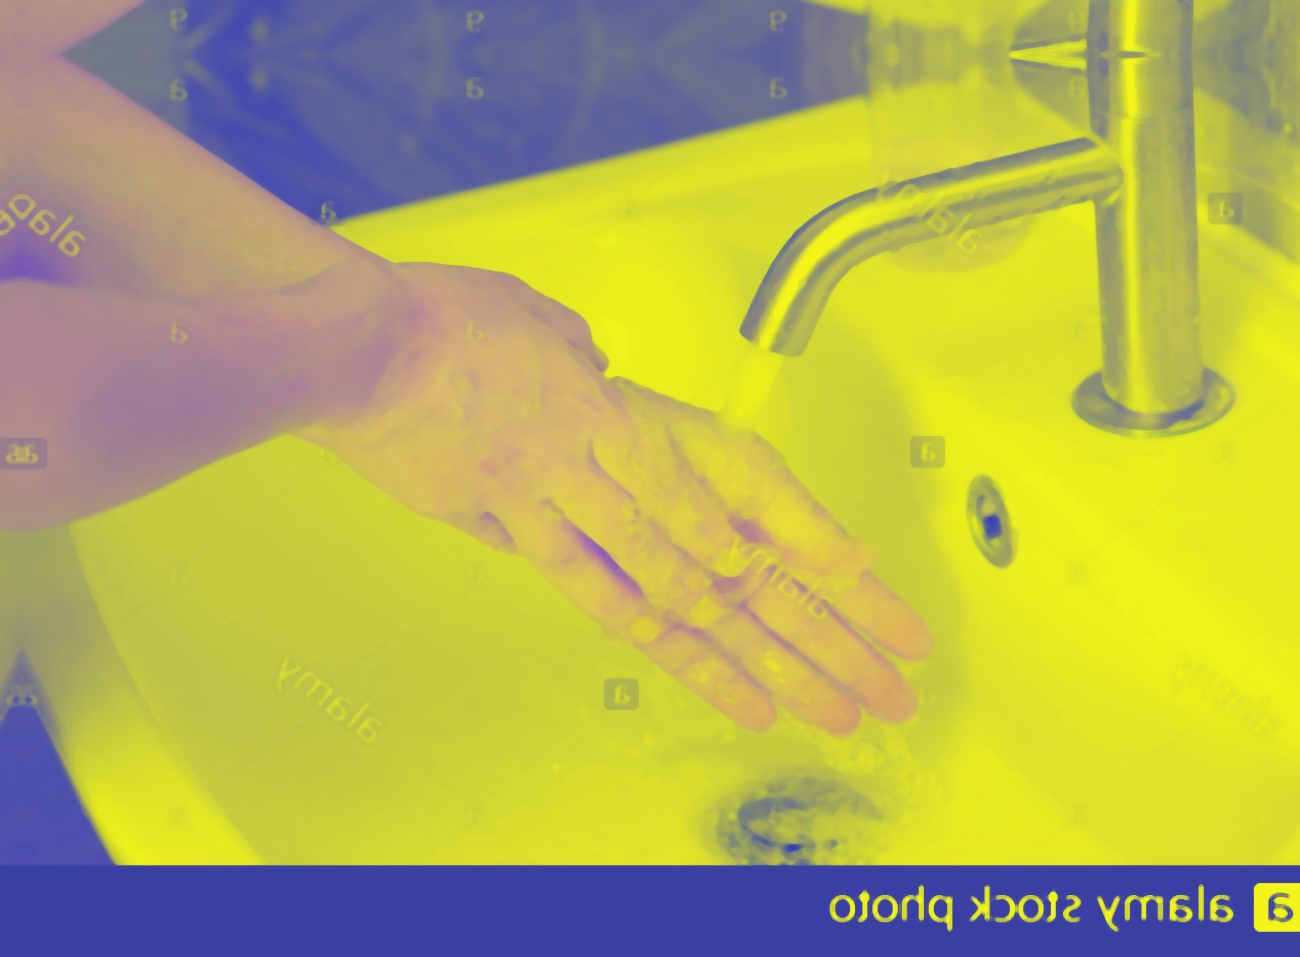washing hand: (428, 101, 1190, 775)
